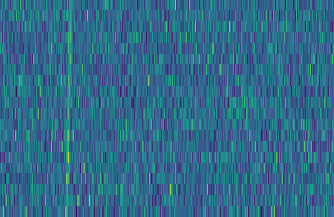signal: (59, 0, 72, 217)
